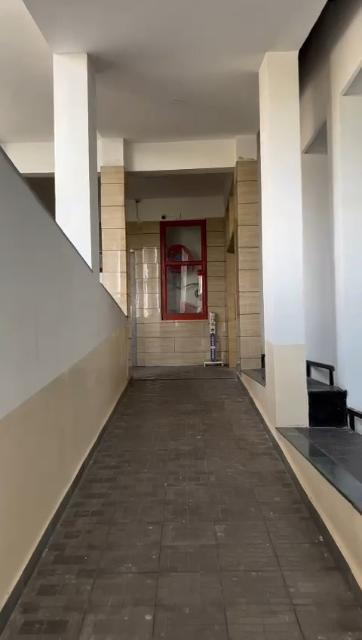floor: (1, 365, 362, 634)
wall: (0, 54, 128, 617), (231, 53, 305, 427), (129, 215, 235, 365)
